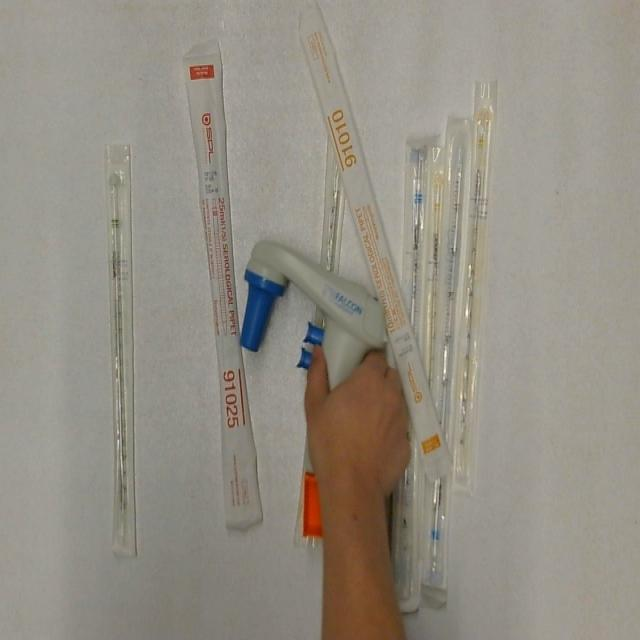Pipette Controller: (238, 235, 387, 549)
Serelogical Pipet 1 mL - Sealed: (448, 76, 502, 496), (420, 145, 452, 396)
Serelogical Pipet 10 mL - Sealed: (297, 1, 456, 482)
Serelogical Pipet 2 mL - Sealed: (100, 138, 144, 561)
Serelogical Pipet 25 mL - Sealed: (178, 35, 267, 535)
Serelogical Pipet 5 mL - Sealed: (420, 111, 471, 593), (400, 132, 420, 614)
